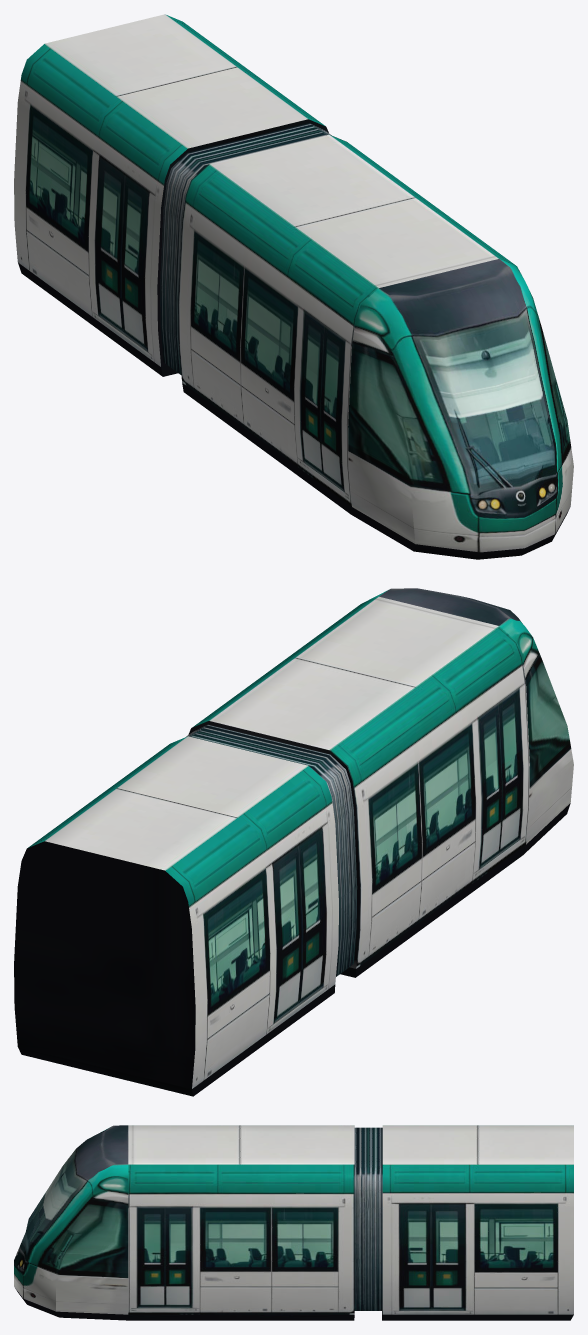
Rendered from TRAM.glb.
The picture shows the model from 3 angles, top to bottom: view 1: azimuth 30°, elevation 25°; view 2: azimuth 150°, elevation 25°; view 3: azimuth 270°, elevation 25°; orthographic projection. The views are drawn at different scales.
Parts seen in each view (by area): view 1: TRAM; view 2: TRAM; view 3: TRAM.
Boxes of the visible parts, x1=… form: TRAM: x1=14, y1=14, x2=573, y2=559; TRAM: x1=14, y1=588, x2=573, y2=1096; TRAM: x1=14, y1=1125, x2=573, y2=1320.
Size of the model in its own units: 2.56 by 3 by 10.26.
Materials: 1 (1 with a texture image).
